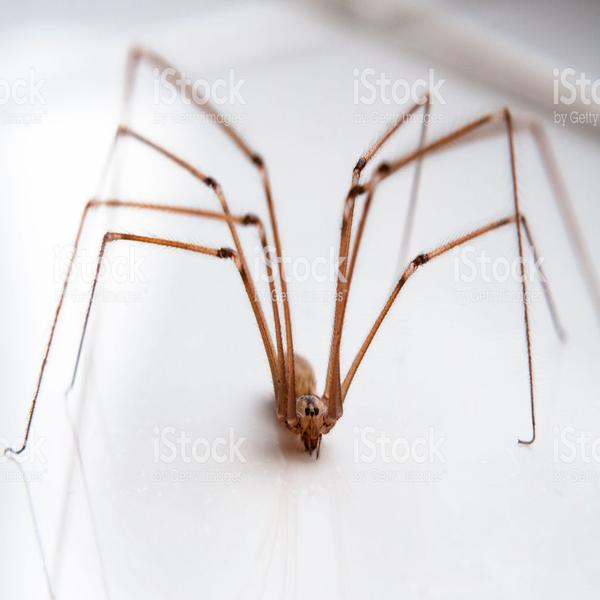Daddy Long Legs Spider: (20, 42, 600, 457)
